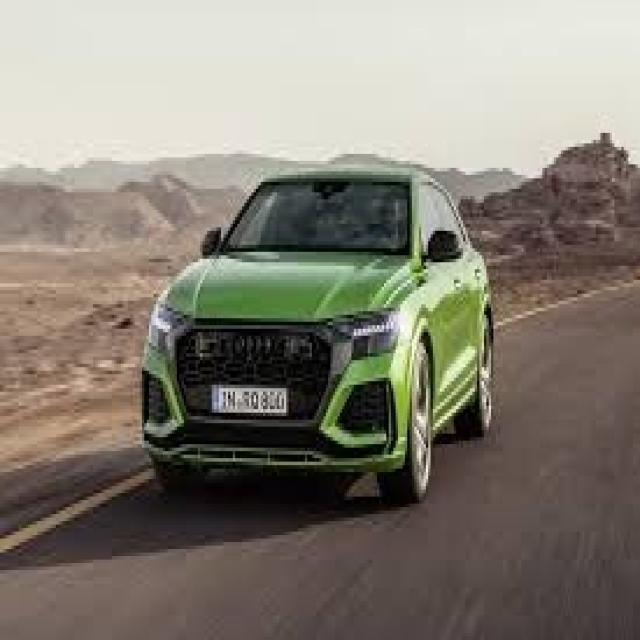green: (140, 143, 477, 500)
